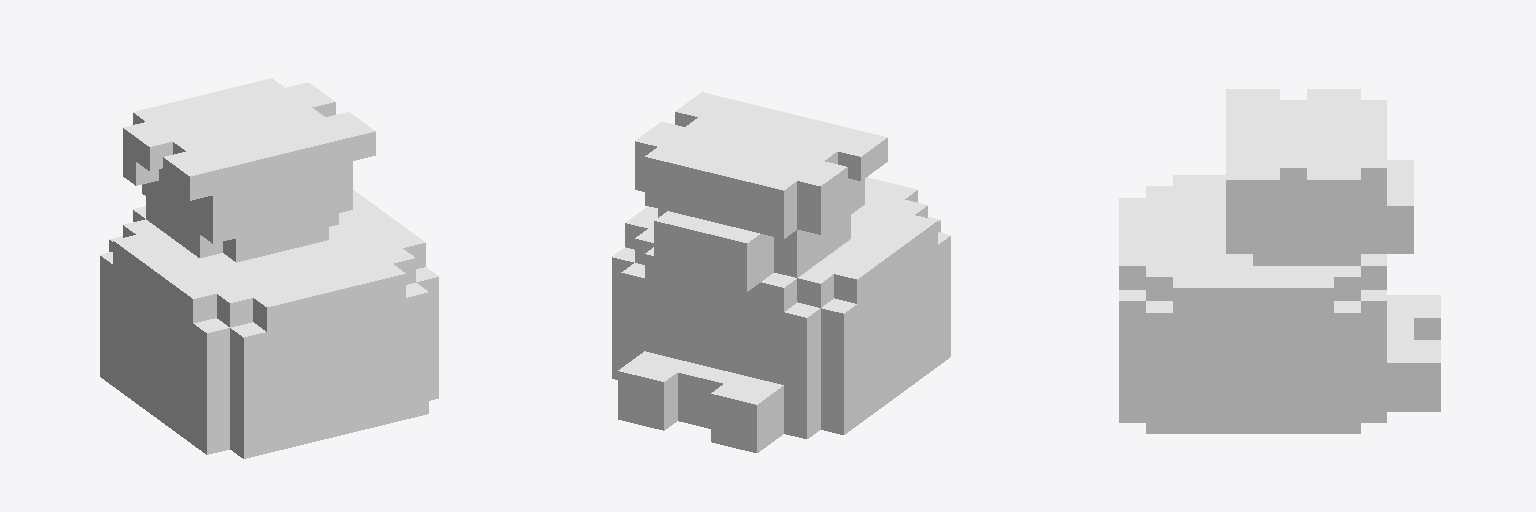
File: zhabik.obj
The picture shows the model from 3 angles: view 1: azimuth 30°, elevation 25°; view 2: azimuth 150°, elevation 25°; view 3: azimuth 270°, elevation 25°; orthographic projection.
Visible parts, largest first — view 1: object 1; view 2: object 1; view 3: object 1.
Boxes of the visible parts, x1,y1,x2,y2 form: object 1: [100, 78, 438, 458]; object 1: [612, 92, 950, 452]; object 1: [1119, 89, 1440, 433].
Bounding box in the file's own units: 1 × 1 × 1.2.